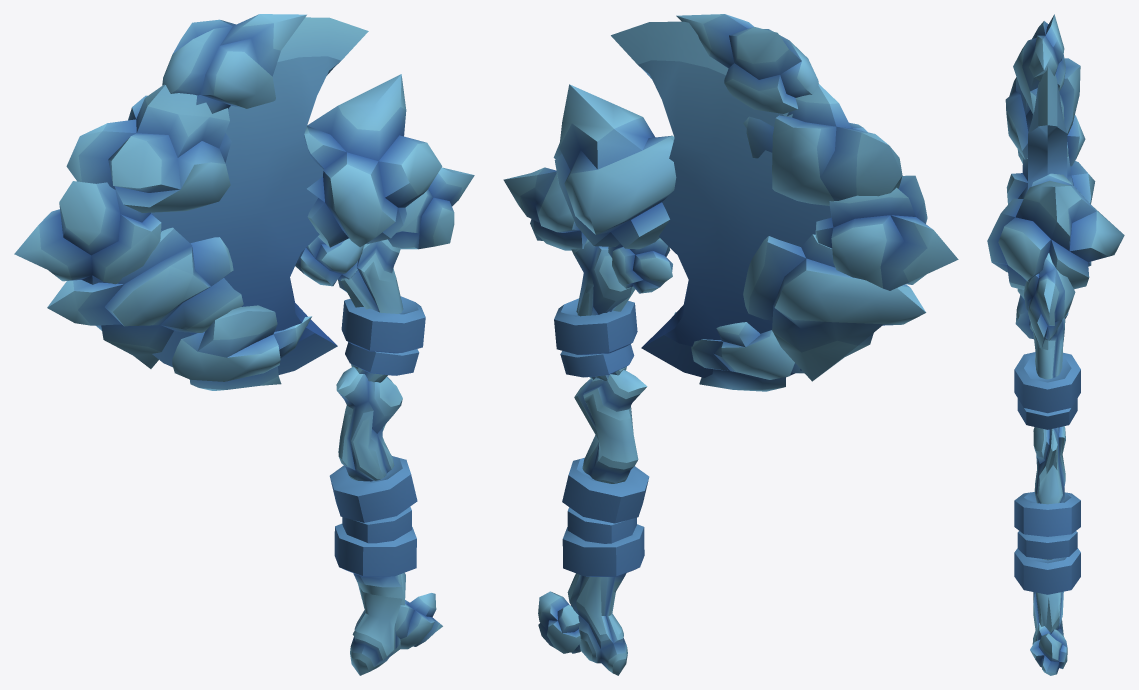
The model's file is kk_mystery5_frostgolem_axe_large.glb.
3 views of the same model, side by side, from view 1: azimuth 30°, elevation 25°; view 2: azimuth 150°, elevation 25°; view 3: azimuth 270°, elevation 25° (orthographic). The views are drawn at different scales.
Visible parts, largest first — view 1: FrostGolem_Axe_Large; view 2: FrostGolem_Axe_Large; view 3: FrostGolem_Axe_Large.
Part boxes in pixels (box(x1,y1,x2,y2)): FrostGolem_Axe_Large: box(14, 14, 474, 675); FrostGolem_Axe_Large: box(503, 14, 958, 675); FrostGolem_Axe_Large: box(987, 14, 1124, 675).
Bounding box in the file's own units: 2.42 × 3.48 × 0.744.
1 material, 1 textured.
